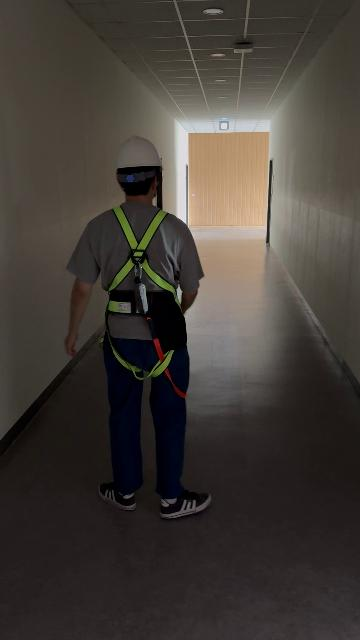helmet_worn: (115, 134, 162, 170)
shoe_not_worn: (159, 488, 210, 519), (98, 481, 136, 510)
vest_worn: (100, 208, 187, 382)
